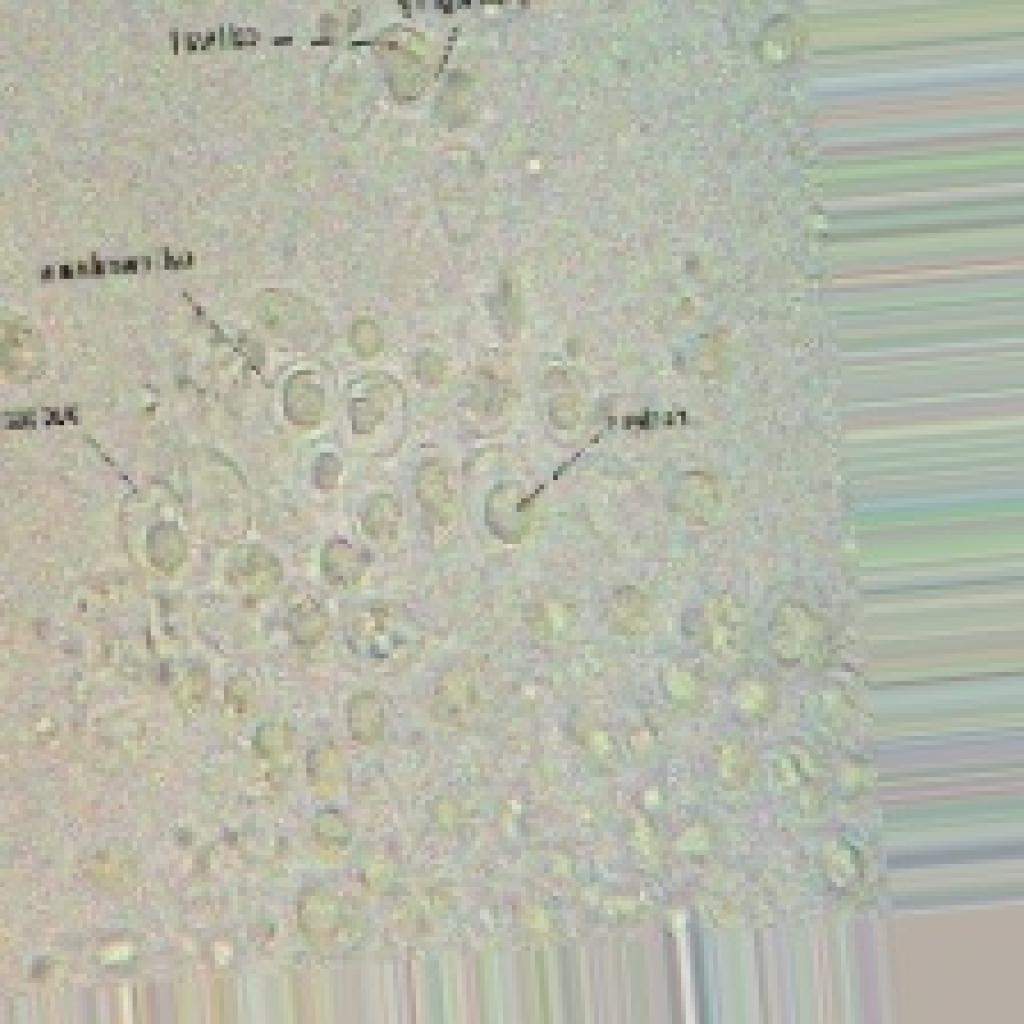Yeast: (0, 86, 820, 918)
